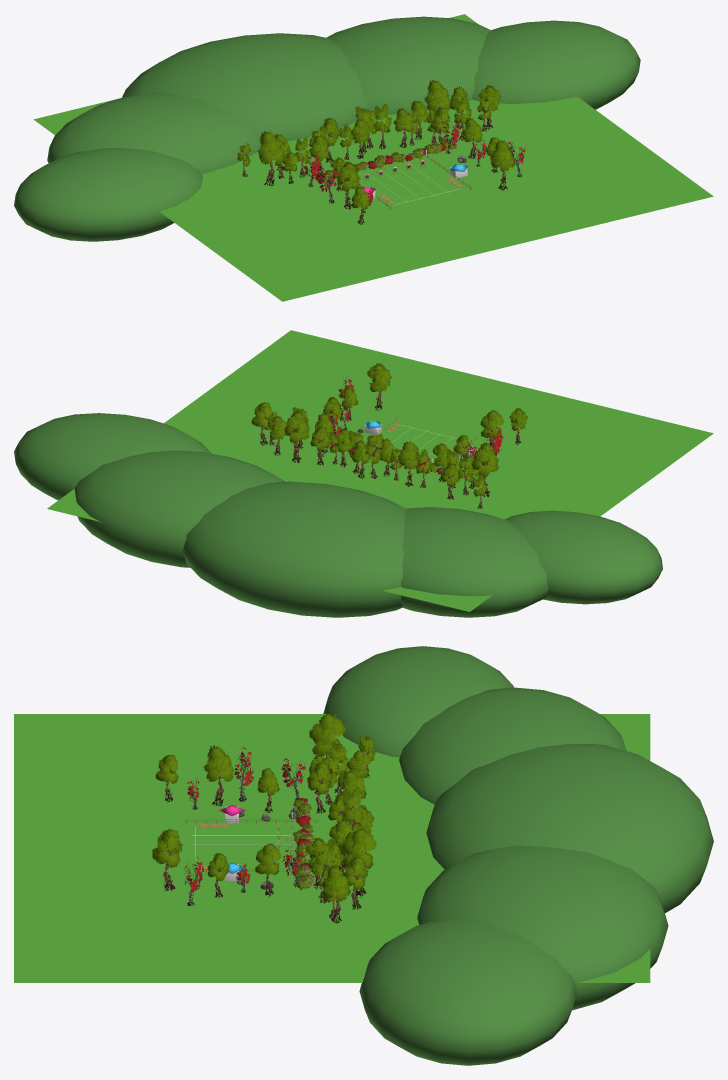
File: archery.glb
3 renders of one model, top to bottom at view 1: azimuth 30°, elevation 25°; view 2: azimuth 150°, elevation 25°; view 3: azimuth 270°, elevation 25°, orthographic. The views are drawn at different scales.
Visible parts, largest first — view 1: hill, ground, Bark_NormalTree.001, Bark_NormalTree, Bark_TwistedTree, Leaves_NormalTree.002; view 2: hill, ground, Bark_NormalTree.001, Bark_NormalTree, Bark_TwistedTree; view 3: hill, ground, Bark_NormalTree.001, Bark_NormalTree, Bark_TwistedTree, Leaves_NormalTree.002.
Boxes of the visible parts, x1=… form: hill: x1=14, y1=16, x2=640, y2=241; ground: x1=33, y1=14, x2=713, y2=301; Bark_NormalTree.001: x1=257, y1=79, x2=514, y2=224; Bark_NormalTree: x1=237, y1=96, x2=491, y2=178; Bark_TwistedTree: x1=303, y1=122, x2=526, y2=213; Leaves_NormalTree.002: x1=320, y1=138, x2=457, y2=181; hill: x1=14, y1=413, x2=662, y2=617; ground: x1=47, y1=330, x2=713, y2=611; Bark_NormalTree.001: x1=251, y1=363, x2=527, y2=499; Bark_NormalTree: x1=264, y1=407, x2=486, y2=508; Bark_TwistedTree: x1=329, y1=374, x2=503, y2=480; hill: x1=323, y1=646, x2=713, y2=1065; ground: x1=14, y1=714, x2=650, y2=982; Bark_NormalTree.001: x1=152, y1=713, x2=376, y2=923; Bark_NormalTree: x1=311, y1=736, x2=375, y2=918; Bark_TwistedTree: x1=184, y1=747, x2=306, y2=905; Leaves_NormalTree.002: x1=293, y1=798, x2=315, y2=889.
Bounding box in the file's own units: 204 × 33.04 × 154.
32 materials, 15 textured.
